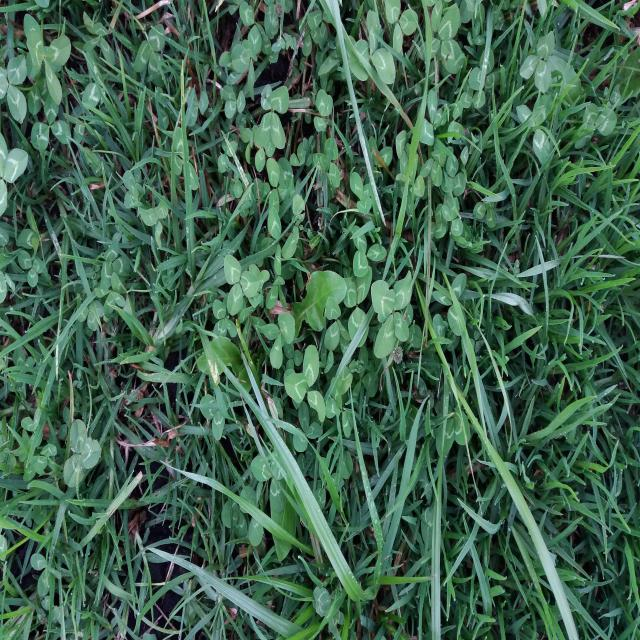Four Leaf Clover: (371, 270, 412, 358), (254, 84, 289, 149)
